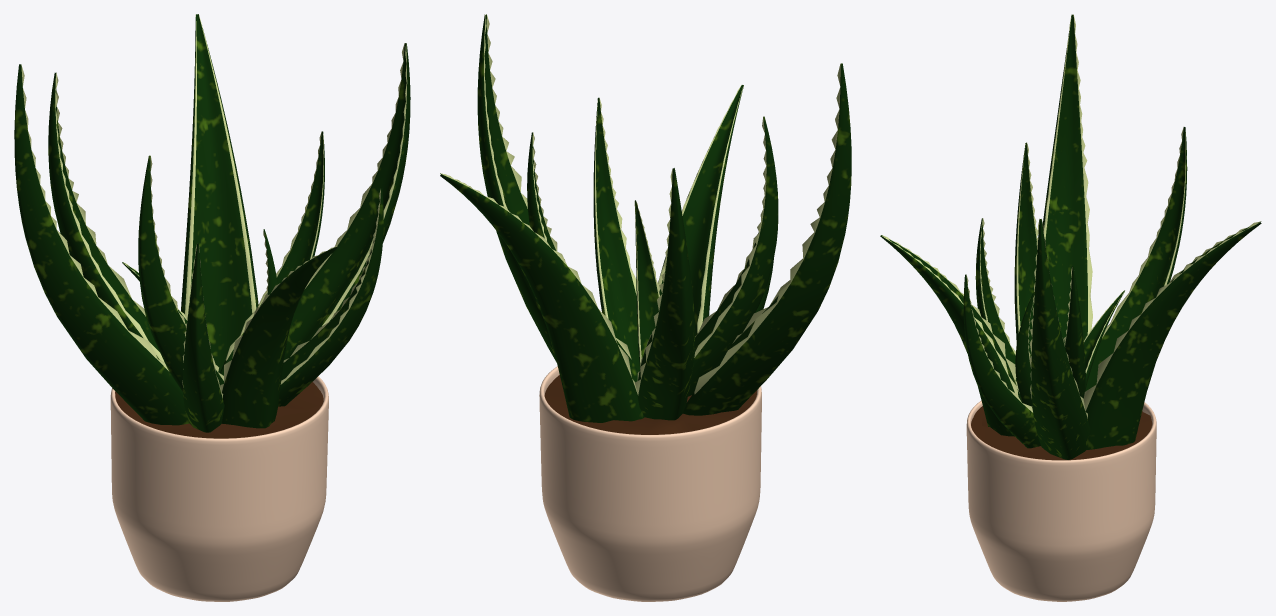
Rendered from aloeStock.glb.
3 views of the same model, side by side, from view 1: azimuth 30°, elevation 25°; view 2: azimuth 150°, elevation 25°; view 3: azimuth 270°, elevation 25° (orthographic). The views are drawn at different scales.
Parts seen in each view (by area): view 1: Aloe; view 2: Aloe; view 3: Aloe.
Boxes of the visible parts, box(x1,y1,x2,y2) form: Aloe: box(14, 14, 410, 601); Aloe: box(440, 14, 851, 601); Aloe: box(880, 14, 1261, 601).
Bounding box in the file's own units: 102 × 142 × 102.
Materials: 4 (1 with a texture image).
